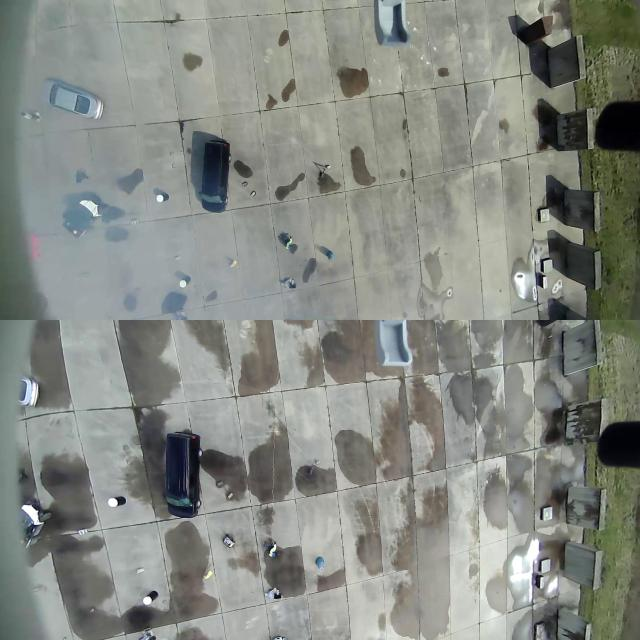car: (42, 70, 114, 132), (161, 426, 205, 518), (197, 133, 237, 215), (0, 374, 49, 412)
